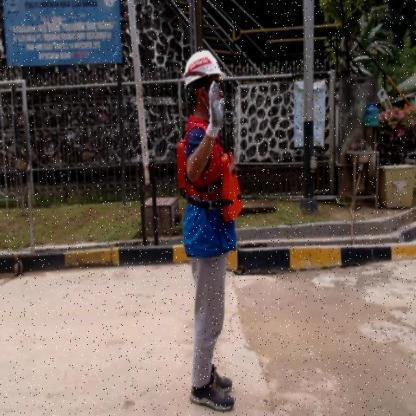boots: (190, 380, 238, 414), (205, 361, 234, 394)
gloves: (206, 79, 224, 142)
helmet: (183, 50, 228, 88)
vest: (172, 135, 243, 223)
